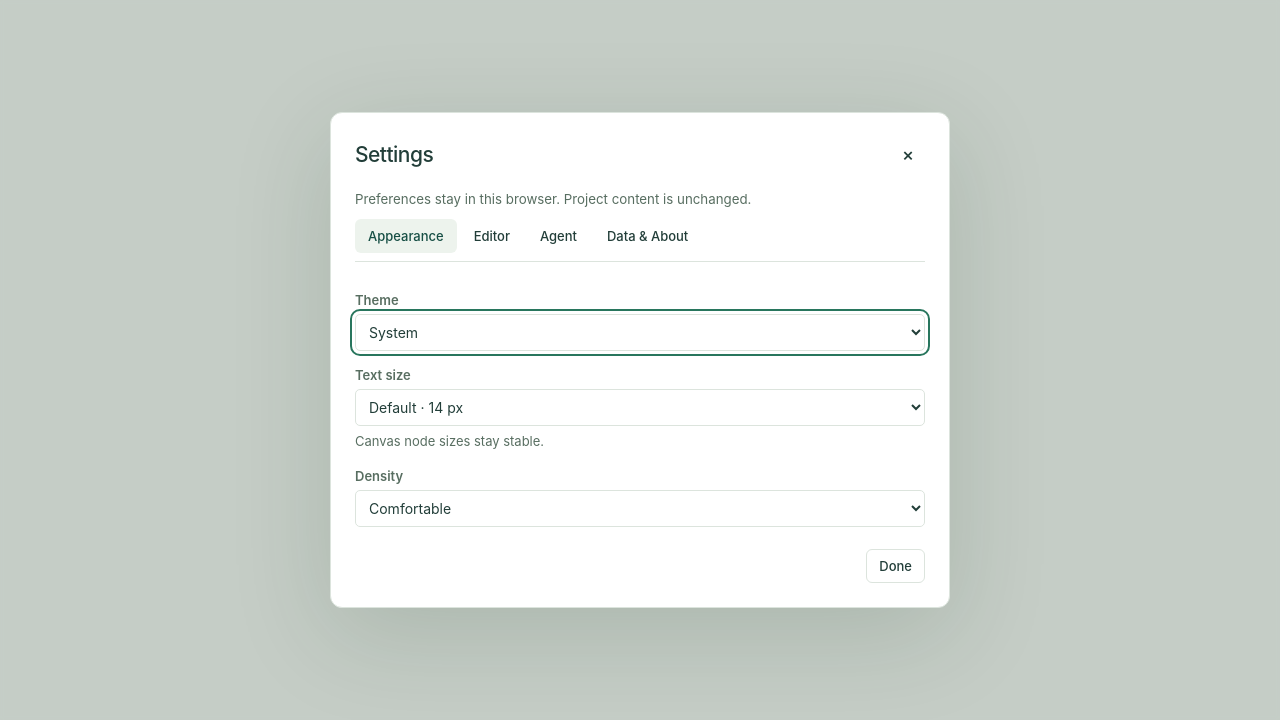
explains unsupported desktop notifications without offering a broken permission action
Click the button "Agent" at (558, 236), box [527, 219, 590, 253]
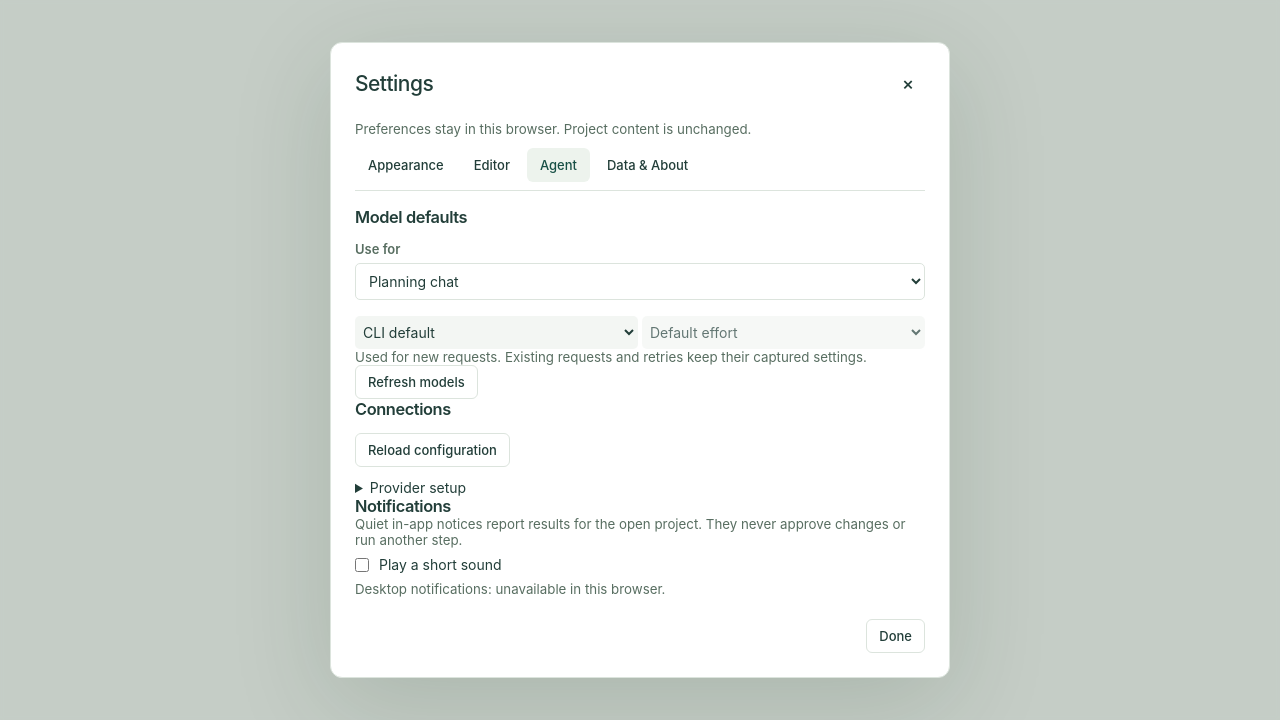
Result: the text "Desktop notifications: unavailable in this browser." is shown at [355, 581, 666, 597]
